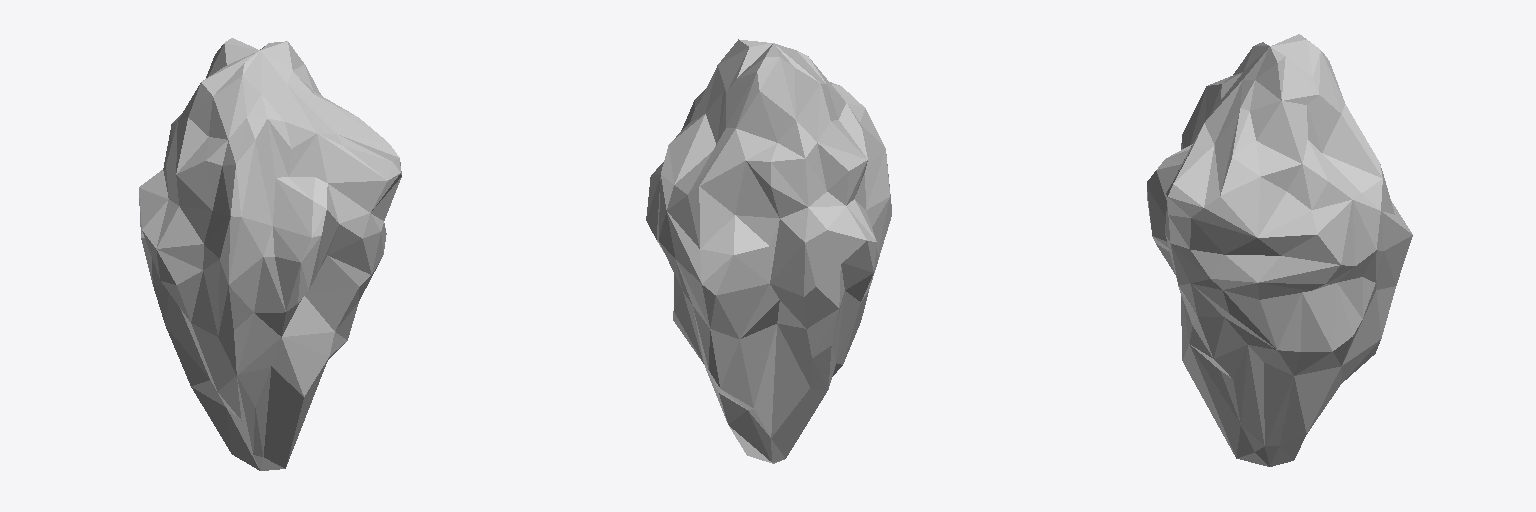
File: O_LavaWorldPlume_a.obj
3 renders of one model, left to right at view 1: azimuth 30°, elevation 25°; view 2: azimuth 150°, elevation 25°; view 3: azimuth 270°, elevation 25°, orthographic.
Parts seen in each view (by area): view 1: Sphere001; view 2: Sphere001; view 3: Sphere001.
Part boxes in pixels (bbox=[...]): Sphere001: bbox=[139, 38, 401, 470]; Sphere001: bbox=[646, 39, 891, 463]; Sphere001: bbox=[1147, 34, 1412, 466].
Bounding box in the file's own units: 60.58 × 115 × 65.45.